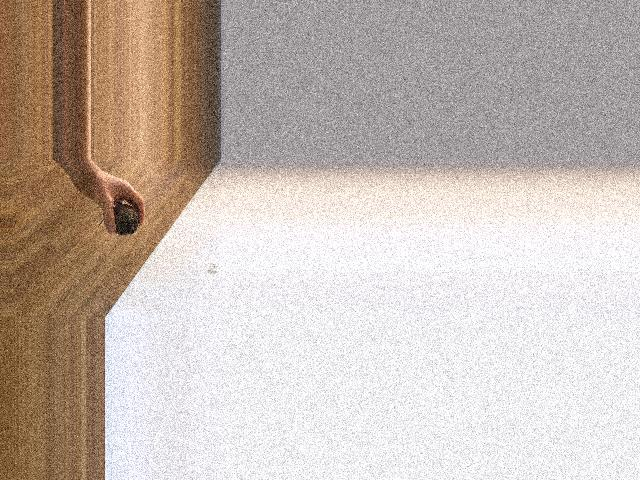beet: (98, 204, 139, 236)
